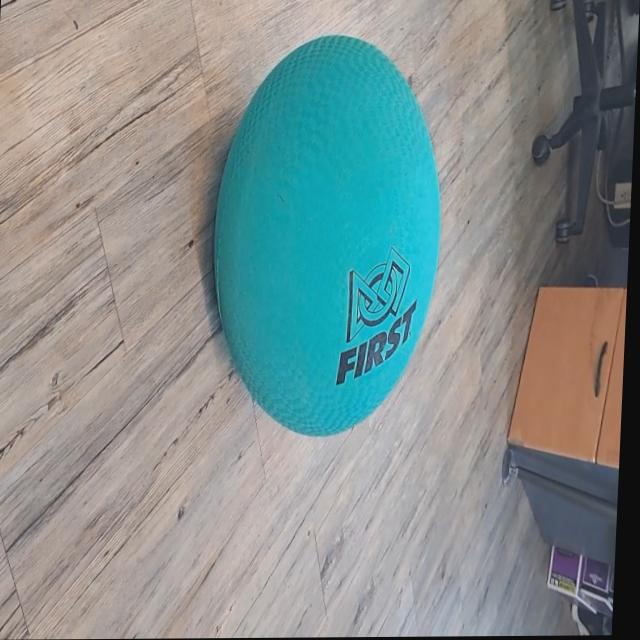ALGAE: (202, 32, 450, 439)
